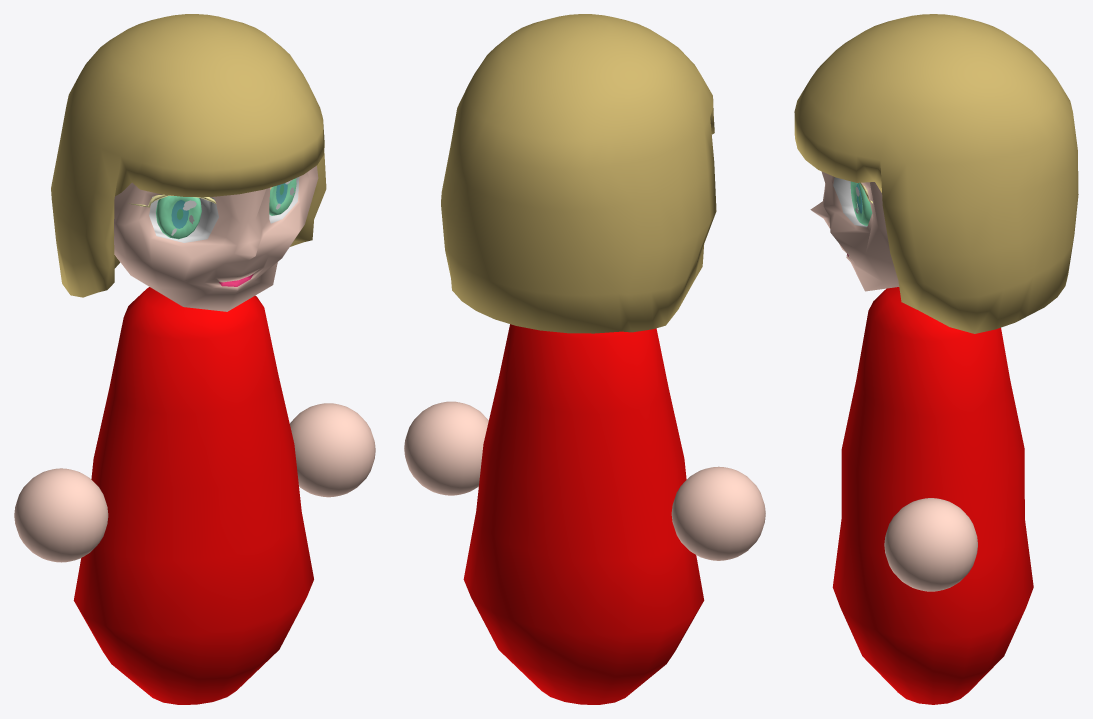
Rendered from p2hacks2025_catgirl.glb.
3 renders of one model, left to right at view 1: azimuth 30°, elevation 25°; view 2: azimuth 150°, elevation 25°; view 3: azimuth 270°, elevation 25°, orthographic.
Visible parts, largest first — view 1: 円柱, 円.002, 球; view 2: 円.002, 円柱, 球; view 3: 円.002, 円柱, 球.
Boxes of the visible parts, x1,y1,x2,y2 form: 円柱: (73,287,313,704); 円.002: (51,14,326,311); 球: (14,403,375,562); 円.002: (441,14,716,333); 円柱: (463,324,704,704); 球: (404,401,765,560); 円.002: (794,14,1078,333); 円柱: (832,287,1033,704); 球: (884,498,977,591).
Size of the model in its own units: 0.2105 by 0.3862 by 0.149.
Materials: 8 (1 with a texture image).
